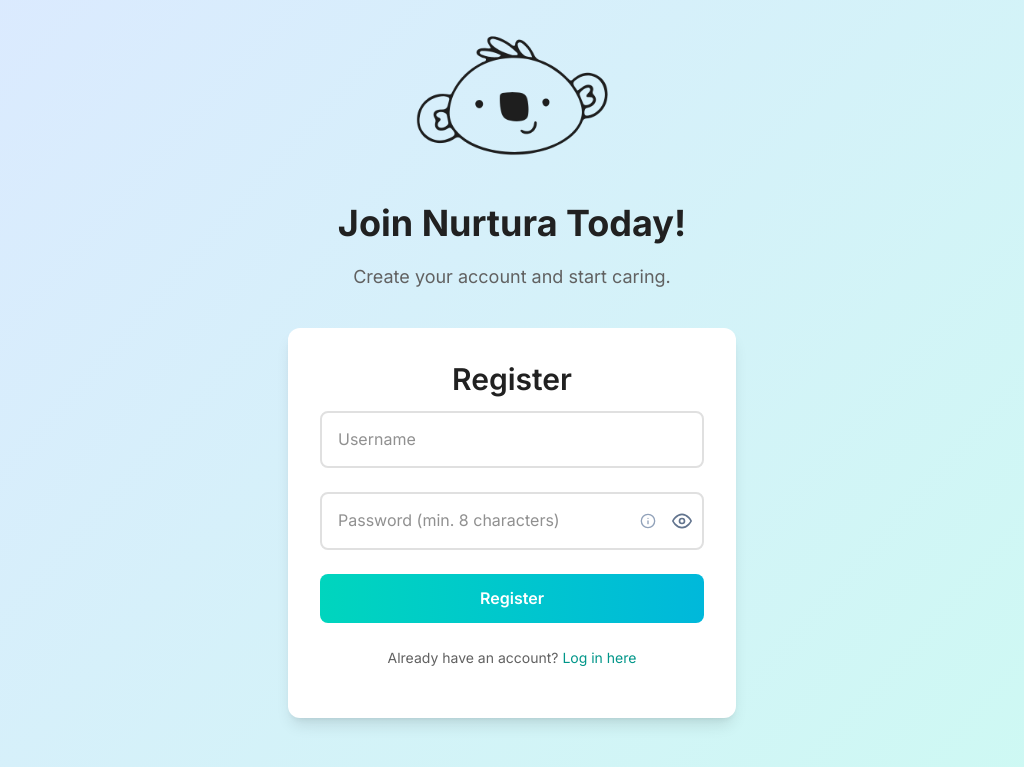
Registration Page › rejects usernames with spaces
The width and height of the screenshot is (1024, 767).
Type "john doe" into the field with placeholder "Username" at (512, 440), box [320,411,704,469]
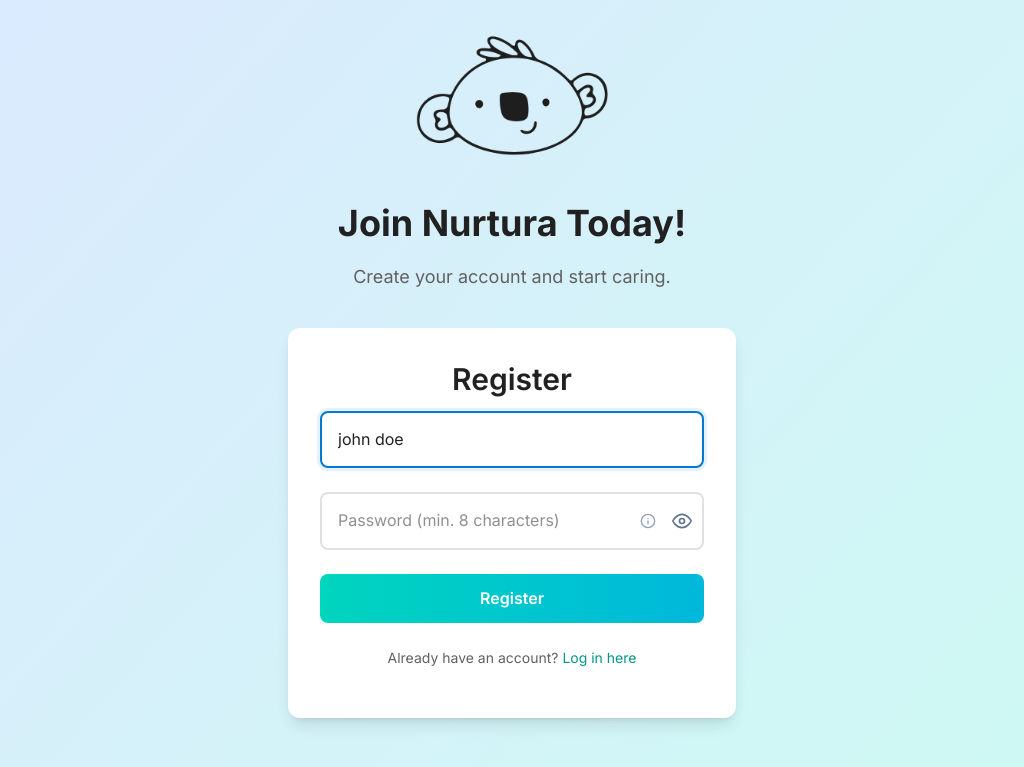
Type "Validpass123" into the password field with placeholder "Password (min. 8 characters)" at (512, 521), box [320,492,704,550]
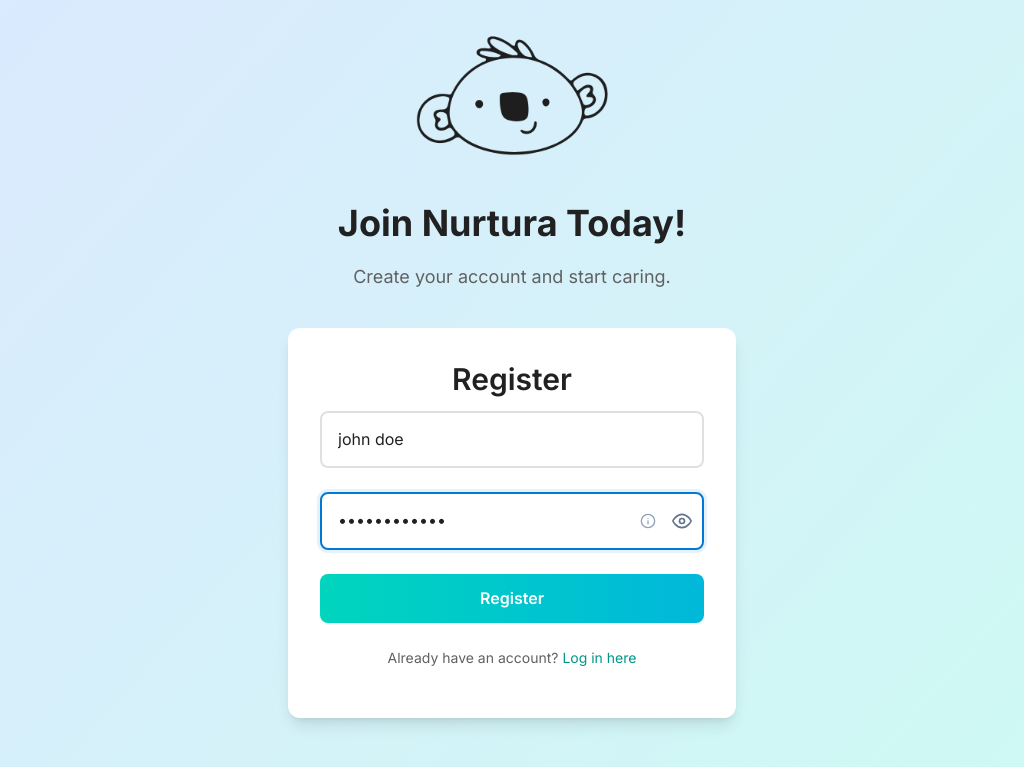
Click the submit button at (512, 599), box [320,574,704,624]
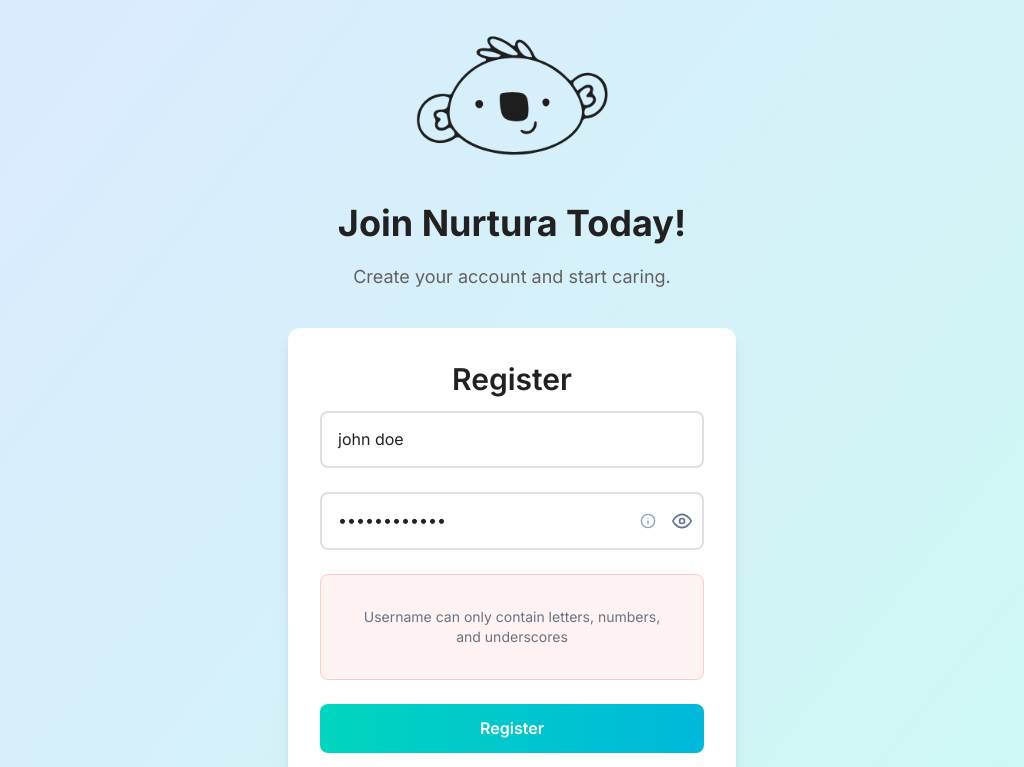
Now the text with class "error-message" reads "Username can only contain letters, numbers, and underscores", box [364,608,660,645]
